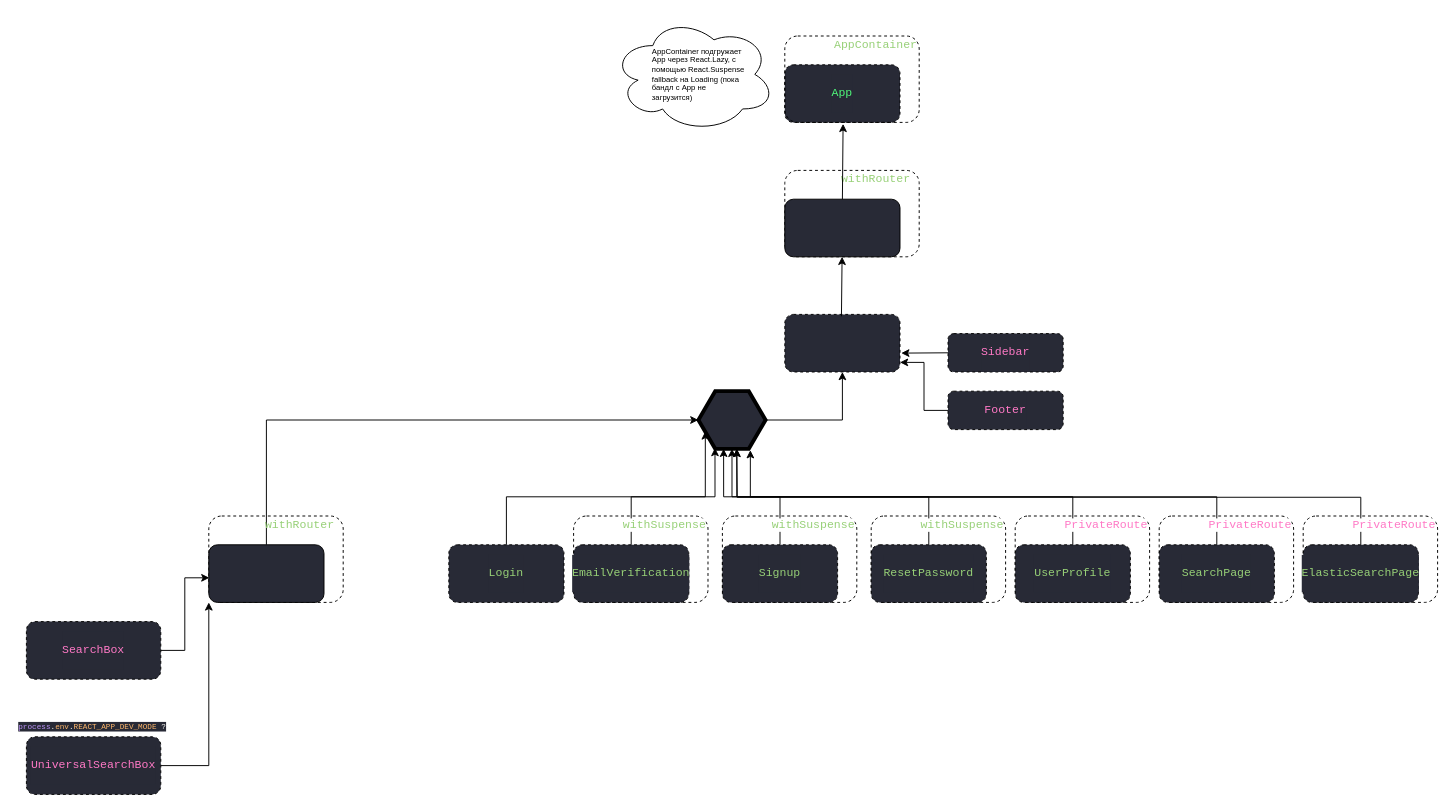
Image size: 1454x811. Some labels were removed from this diagram. The shapes that lost their labels are listed below. From the top down, each one's centre as x and y in pixels, then its label:
At point 842,227: "MainContainer".
At point 842,342: "Main".
At point 731,419: "Switch".
At point 266,573: "HomePage".
